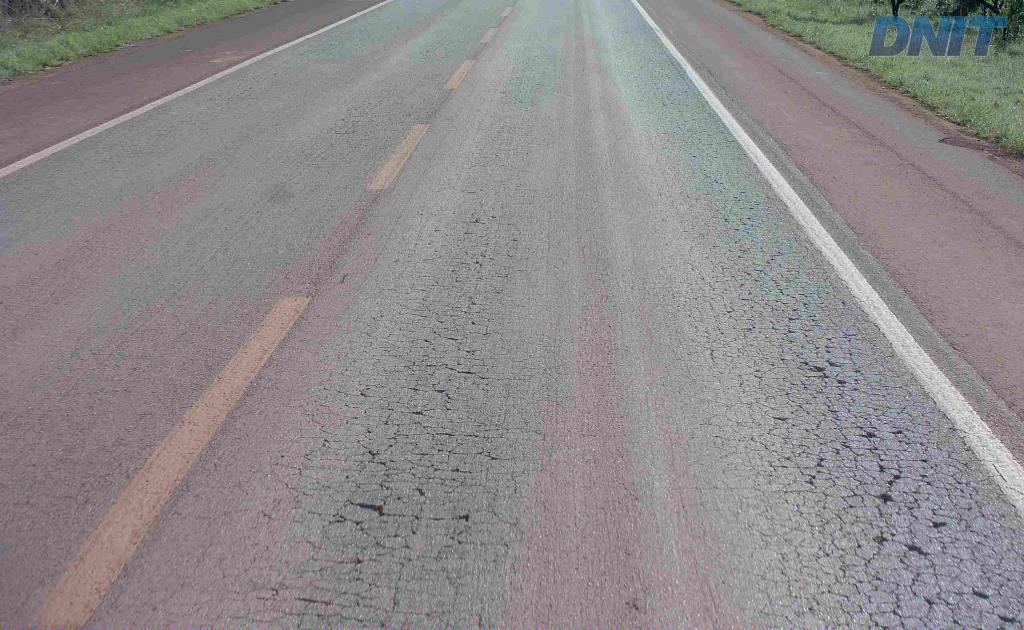crack: (343, 478, 405, 518)
